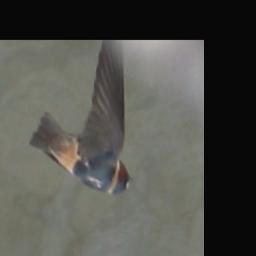Swallow: (28, 41, 134, 201)
